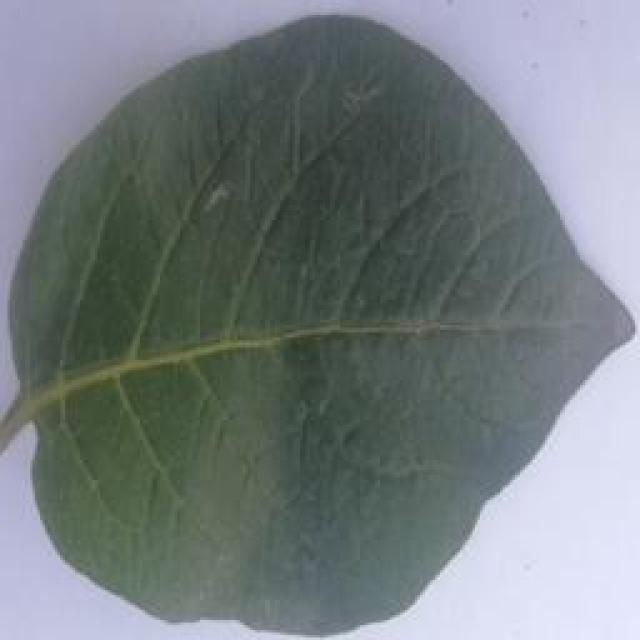Potato_Healthy: (7, 11, 628, 632)
